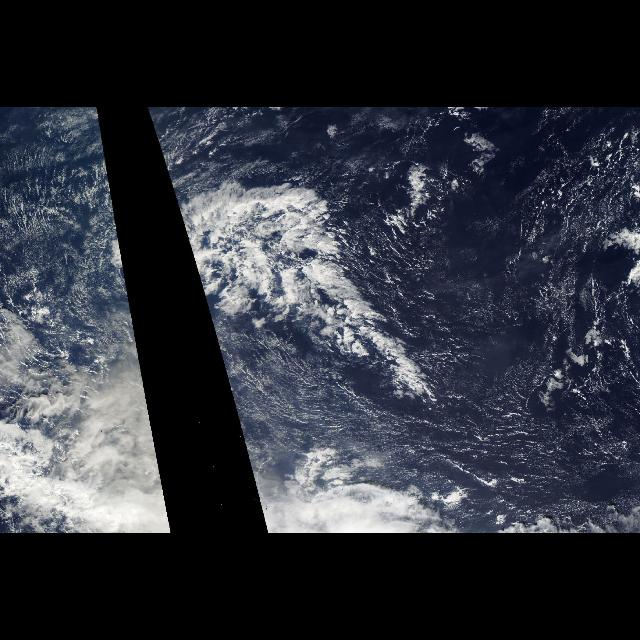Fish: (168, 183, 434, 399), (97, 183, 147, 399)
Gravel: (488, 120, 640, 507)
Sugar: (149, 115, 636, 502), (0, 111, 164, 486)
